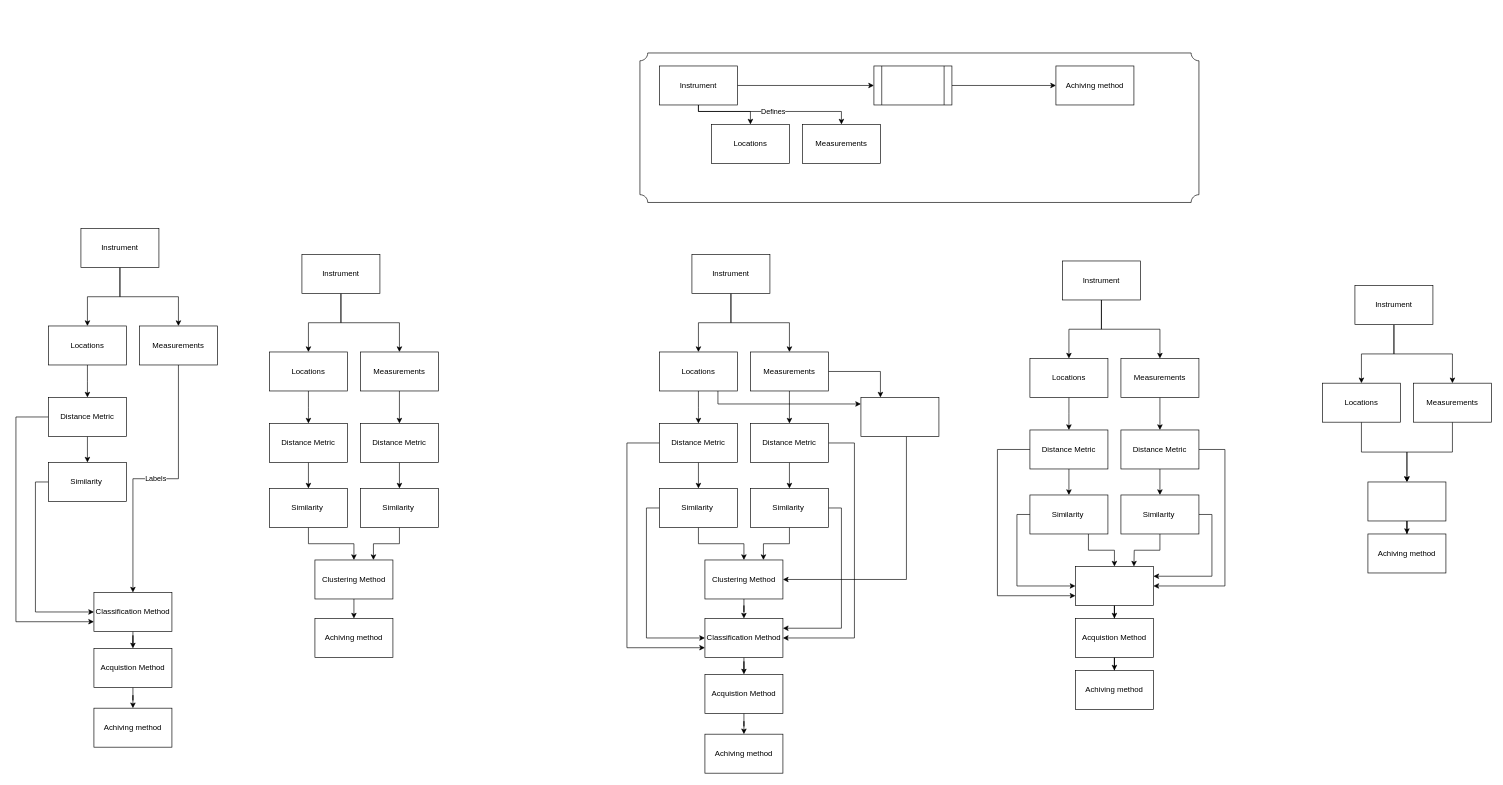
Some shapes in this 1503 by 785 pixel diagram are drawn without their labels. The box of each missing label's shape, as (x1, y1, x2, y2) in pixels:
Analysis: (1367, 481, 1446, 521)
Graph Method: (860, 397, 939, 436)
Key: Pipeline Required Blocks: (639, 52, 1199, 202)
Optional: Analysis Steps: (873, 65, 952, 105)
Regression Method: (1075, 566, 1153, 605)
